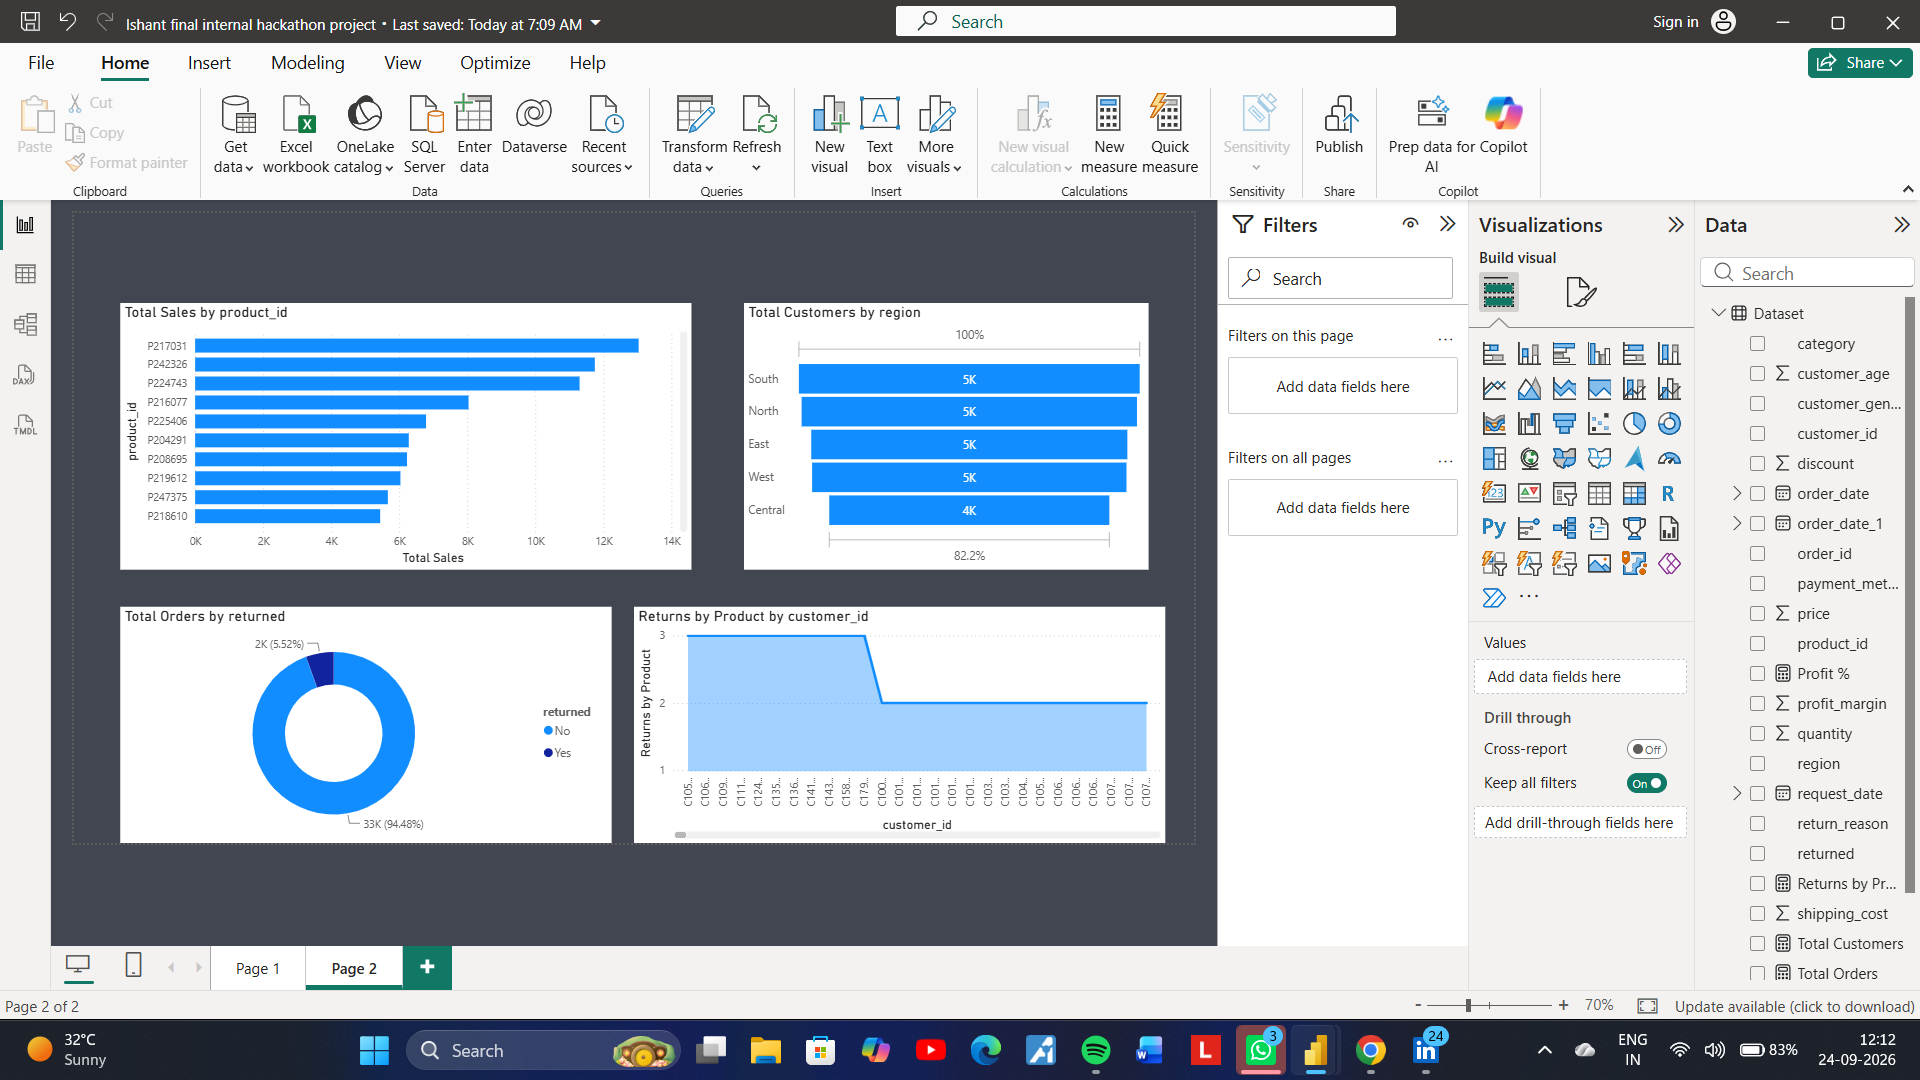

The page's visual inventory and layout, read from the dashboard file:
{"tool":"powerbi","page":{"name":"Page 2","canvas":[1280,720],"ordinal":1},"visuals":[{"type":"barChart","fields":{"Category":["Dataset.product_id"],"Y":["Dataset.Total Sales"]},"box":[52.1,102.9,653.2,304.6],"z":0},{"type":"funnel","fields":{"Category":["Dataset.region"],"Y":["Dataset.Total Customers"]},"box":[765.7,102.9,462.4,304.6],"z":1},{"type":"donutChart","fields":{"Category":["Dataset.returned"],"Y":["Dataset.Total Orders"]},"box":[52.1,450.1,561.2,270.3],"z":2}]}

Visuals, with their boxes on the page's 1280x720 design canvas (x1, y1, x2, y2). These are canvas units, not pixel positions in the 1920x1080 screenshot, which may show the page scaled, cropped or inside an application window:
barChart - Dataset.product_id x Dataset.Total Sales: bbox=(52, 103, 705, 408)
funnel - Dataset.region x Dataset.Total Customers: bbox=(766, 103, 1228, 408)
donutChart - Dataset.returned x Dataset.Total Orders: bbox=(52, 450, 613, 720)
